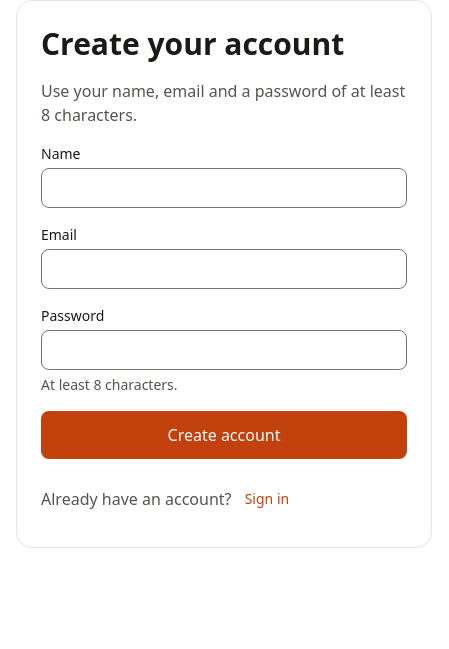
RegisterForm › AC15/AC17 refuses a short password and a malformed email, keeping input
Type "Asha" into the field labelled "Name" at (224, 188), box [41, 168, 407, 208]
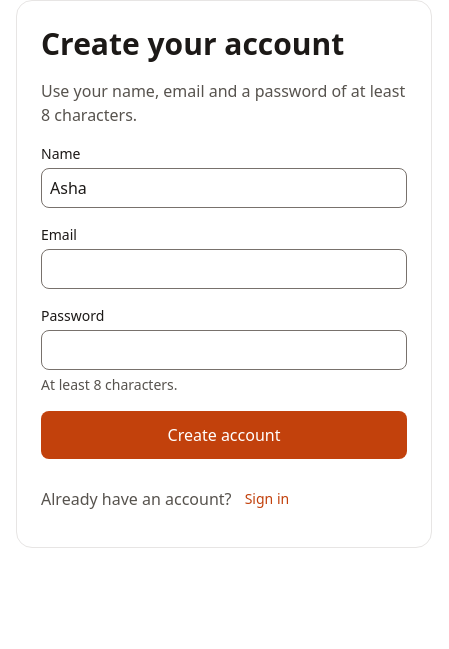
Type "asha@example" into the field labelled "Email" at (224, 268), box [41, 248, 407, 288]
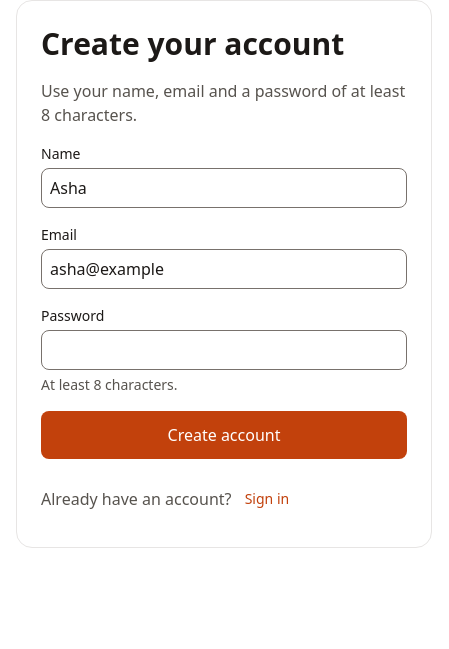
Type "1234567" into the password field labelled "Password" at (224, 350), box [41, 330, 407, 370]
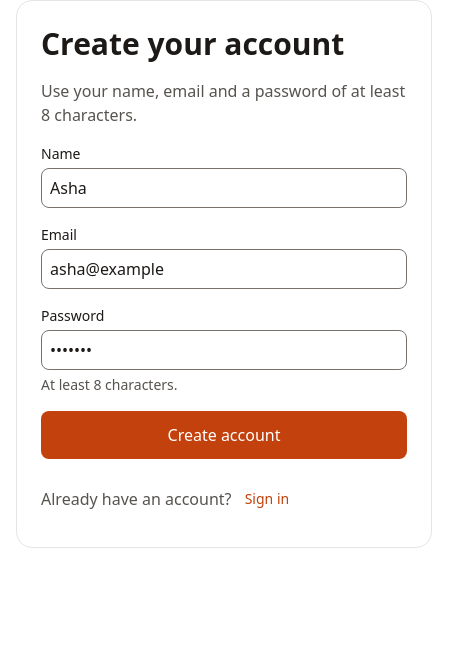
Click the button "Create account" at (224, 434), box [41, 410, 407, 458]
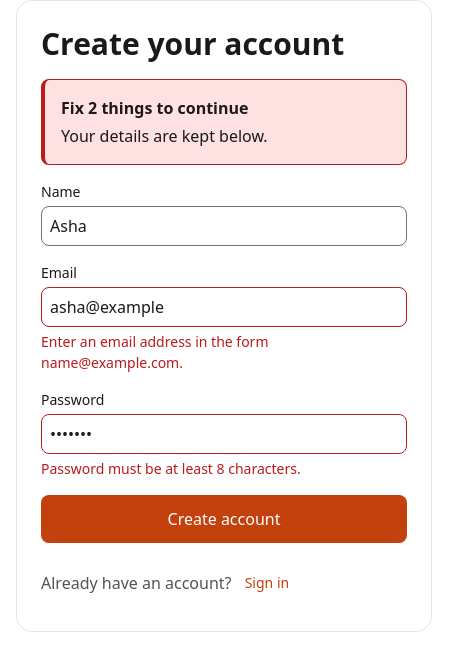
Result: the message shows "Fix 2 things to continue" at [41, 78, 407, 164]
Result: the text "Password must be at least 8 characters." is shown at [41, 458, 301, 478]
Result: the text "Enter an email address in the form name@example.com." is shown at [41, 332, 268, 372]
